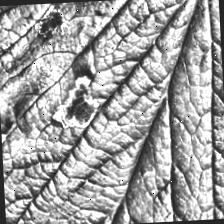Angular Leafspot: (0, 0, 172, 224)
